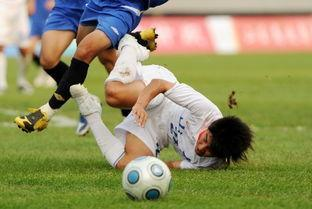Fall-Detected: (71, 23, 264, 181)
